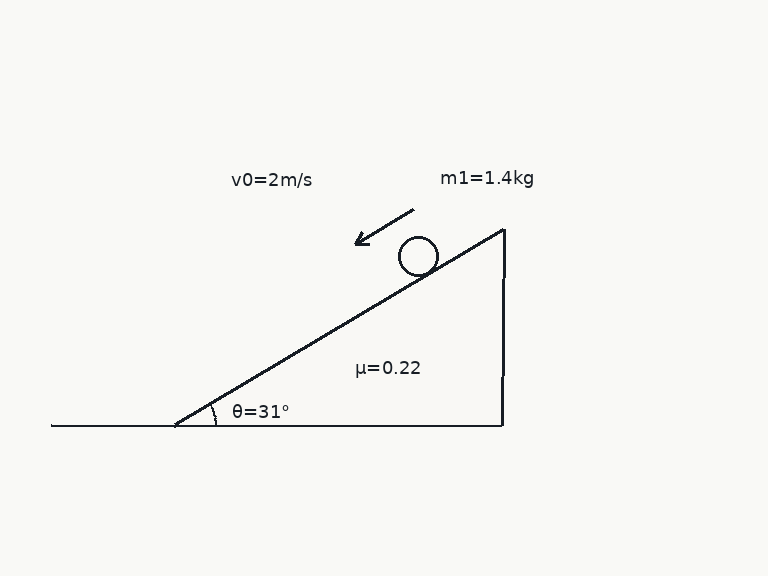ball: (396, 234, 440, 278)
ramp: (174, 227, 505, 427)
